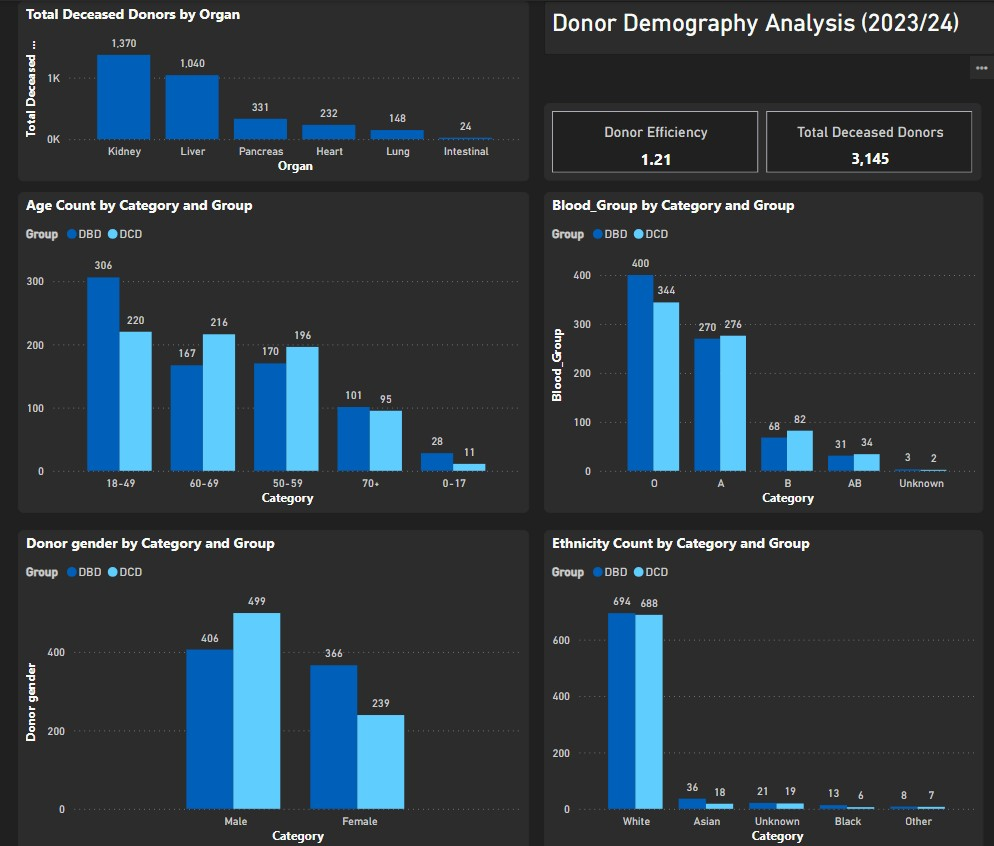

Layout of this report page (visuals, bound fields, positions):
{"tool":"powerbi","page":{"name":"Donor Demography","canvas":[1000,853],"ordinal":1},"visuals":[{"type":"clusteredColumnChart","fields":{"Category":["DonorDemographics.Category"],"Y":["MeasuresTable.Age Count"],"Series":["DonorDemographics.Group"]},"box":[19.1,191.7,512.8,322.1],"z":0},{"type":"clusteredColumnChart","fields":{"Category":["DonorDemographics.Category"],"Series":["DonorDemographics.Group"],"Y":["MeasuresTable.Ethnicity Count"]},"box":[546.9,530.9,440.5,322.1],"z":1000},{"type":"clusteredColumnChart","fields":{"Category":["DonorDemographics.Category"],"Series":["DonorDemographics.Group"],"Y":["MeasuresTable.Blood_Group"]},"box":[546.9,191.7,440.5,322.1],"z":2000},{"type":"clusteredColumnChart","fields":{"Category":["DonorDemographics.Category"],"Series":["DonorDemographics.Group"],"Y":["MeasuresTable.Donor gender"]},"box":[19.1,530.9,512.8,322.1],"z":3000},{"type":"cardVisual","fields":{"Data":["MeasuresTable.Donor Efficiency","MeasuresTable.Total Deceased Donors"]},"box":[546.9,102.4,438.5,78.3],"z":4000},{"type":"columnChart","fields":{"Y":["MeasuresTable.Total Deceased Donors"],"Category":["DDT_23/24.Organ"]},"box":[19.1,0,512.8,180.6],"z":6000},{"type":"textbox","box":[546.9,0,452.6,54.2],"z":6001}]}

Visuals, with their boxes in screenshot pixels (x1, y1, x2, y2), scaled from the page's 1000x853 canvas onto the 994x846 screenshot:
clusteredColumnChart - DonorDemographics.Category x MeasuresTable.Age Count: [x1=19, y1=190, x2=529, y2=510]
clusteredColumnChart - DonorDemographics.Category x DonorDemographics.Group: [x1=544, y1=527, x2=981, y2=845]
clusteredColumnChart - DonorDemographics.Category x DonorDemographics.Group: [x1=544, y1=190, x2=981, y2=510]
clusteredColumnChart - DonorDemographics.Category x DonorDemographics.Group: [x1=19, y1=527, x2=529, y2=845]
cardVisual - MeasuresTable.Donor Efficiency x MeasuresTable.Total Deceased Donors: [x1=544, y1=102, x2=979, y2=179]
columnChart - MeasuresTable.Total Deceased Donors x DDT_23/24.Organ: [x1=19, y1=0, x2=529, y2=179]
textbox: [x1=544, y1=0, x2=993, y2=54]
